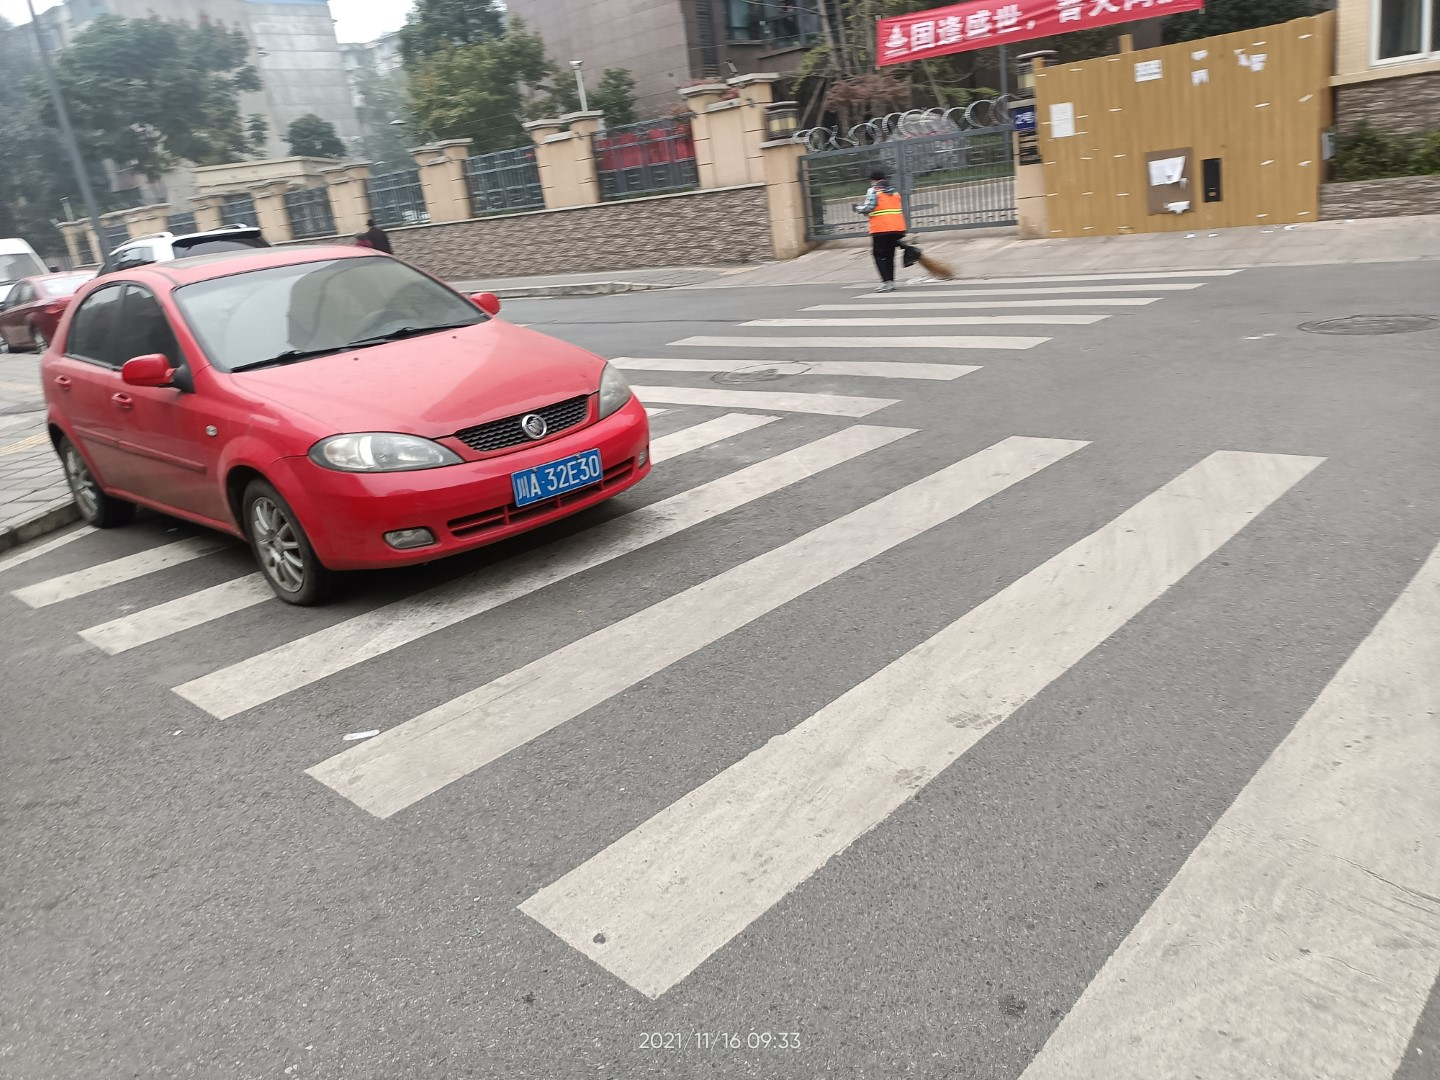plate: (510, 446, 605, 508)
